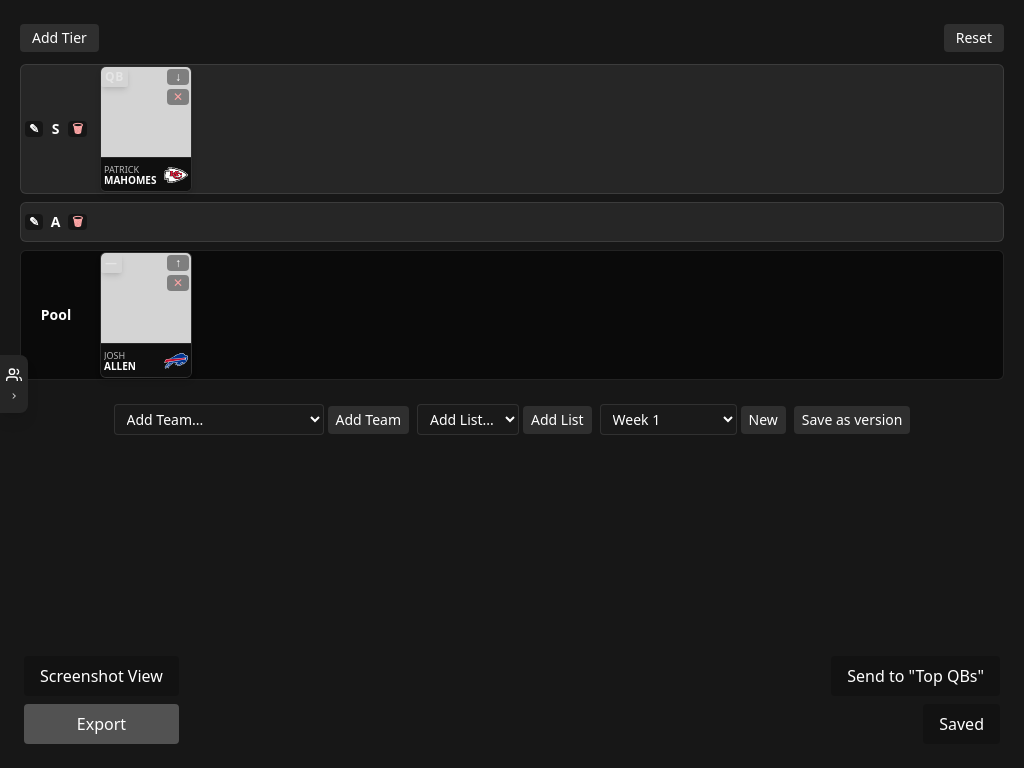
TierMakerBoard › sends a board made from a list back to that list
Check: the text "MAHOMES" is shown, box [104,174,160,184]
What coordinates should you click on to do the following:
click the button "Send to \"Top QBs\""
I would click on:
 (916, 676)
Its box is [831,656,1000,696].
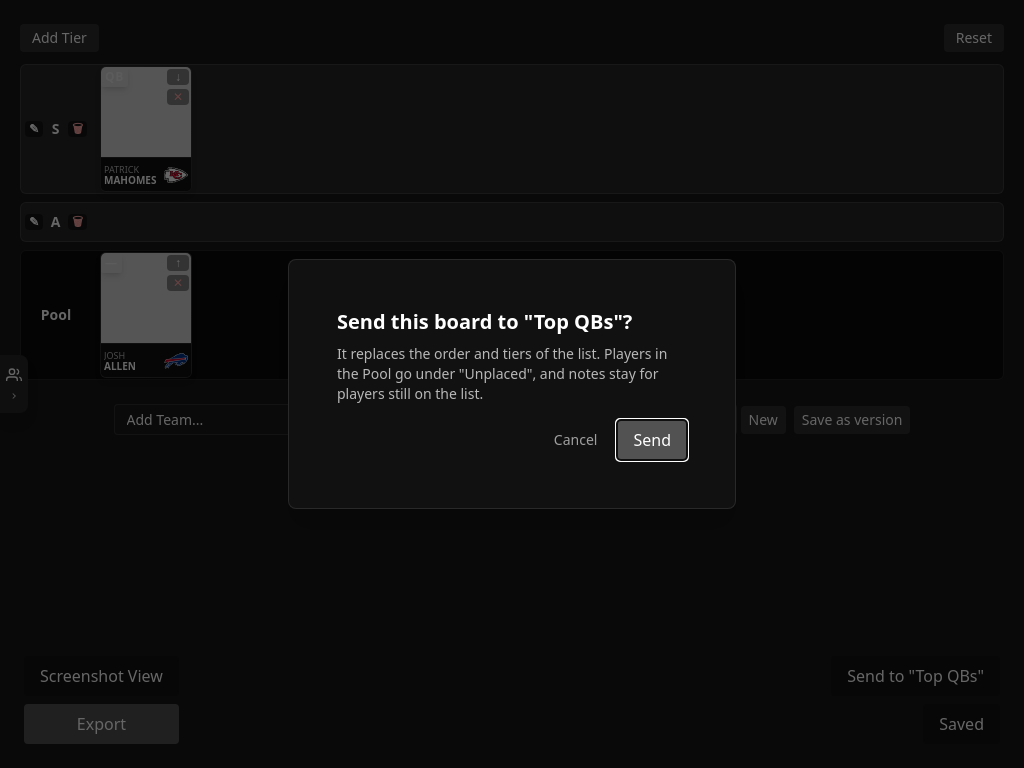
Check: the heading "Send this board to \"Top QBs\"?" is shown, box [337,308,632,335]
What coordinates should you click on to do the following:
click the button "Send"
I would click on:
 (652, 440)
Its box is [618,420,687,460].
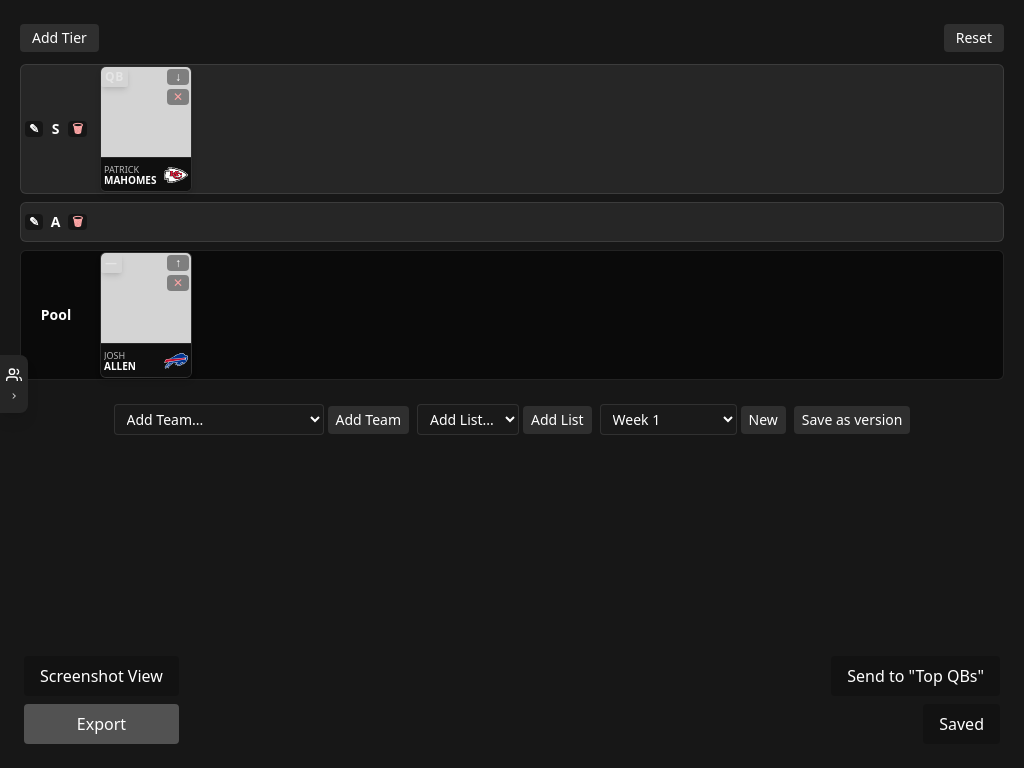
Check: the dialog is gone
